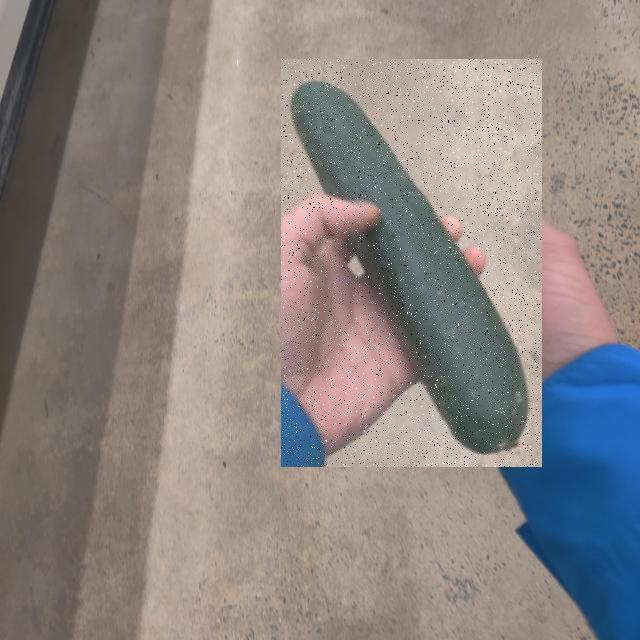cucumber: (10, 234, 552, 640)
